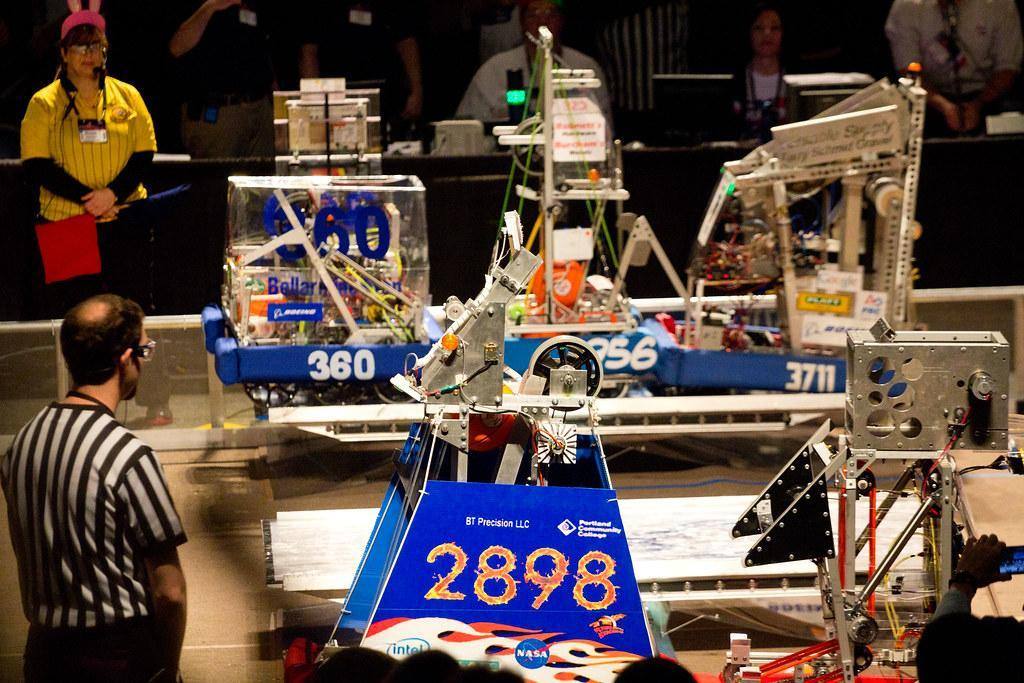robot: (309, 339, 654, 683), (704, 322, 1024, 683), (666, 43, 951, 397), (444, 29, 677, 396), (196, 162, 448, 400)
